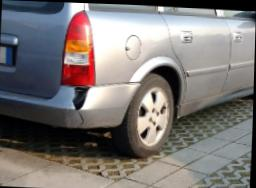Bumper: (63, 87, 106, 129)
